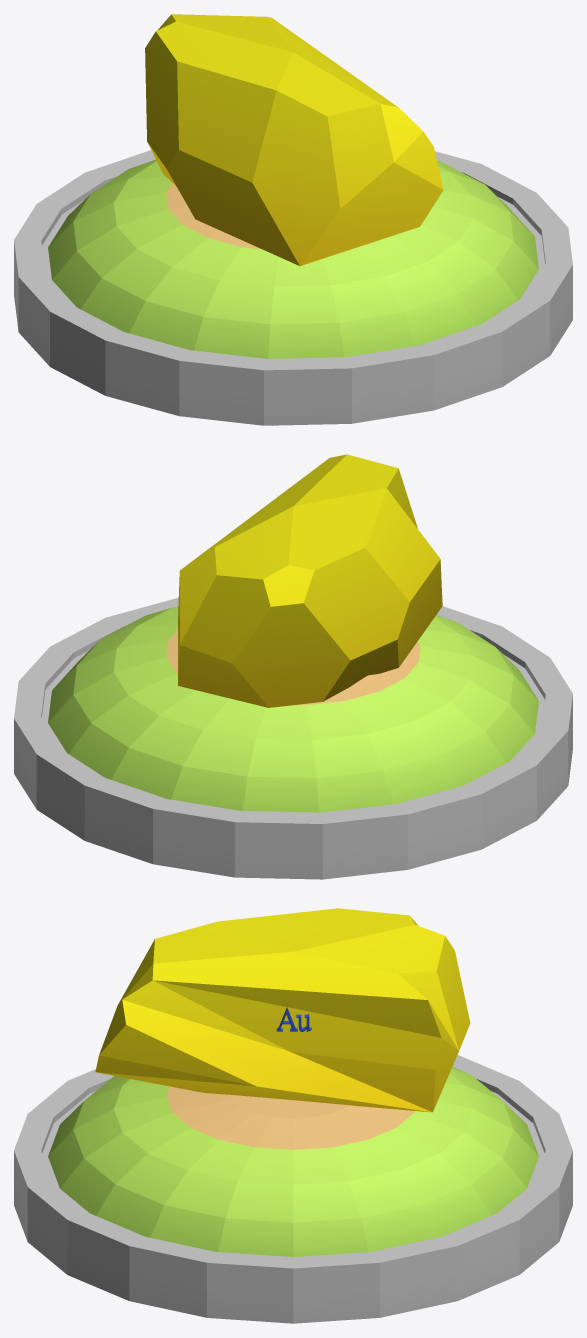
Rendered from Rock_Golden_Full.fbx.
3 views of the same model, one above another, from view 1: azimuth 30°, elevation 25°; view 2: azimuth 150°, elevation 25°; view 3: azimuth 270°, elevation 25° (orthographic).
Parts seen in each view (by area): view 1: Sphere.004; view 2: Sphere.004; view 3: Sphere.004.
Boxes of the visible parts, box(x1,y1,x2,y2) form: Sphere.004: box(14, 14, 572, 425); Sphere.004: box(14, 454, 572, 879); Sphere.004: box(14, 908, 572, 1323).
Size of the model in its own units: 450 by 228 by 450.
